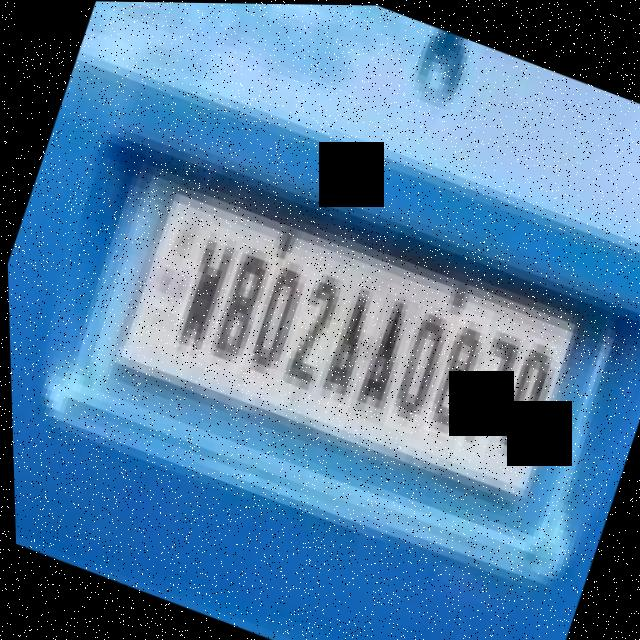0: (374, 302, 453, 435), (238, 252, 312, 390), (489, 335, 560, 460)
7: (446, 315, 529, 465)
8: (418, 298, 496, 439)
A: (305, 265, 395, 412), (341, 291, 424, 426)
B: (200, 228, 286, 375)
W: (162, 221, 244, 359)
